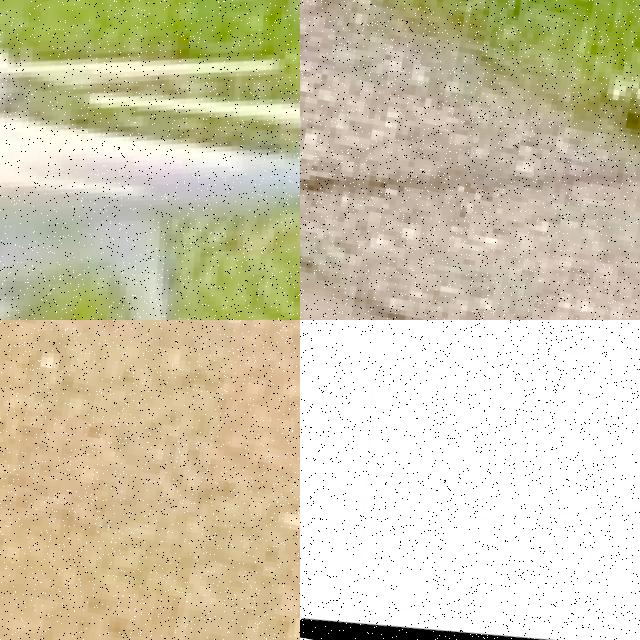drone: (300, 320, 640, 640), (0, 0, 300, 320)
